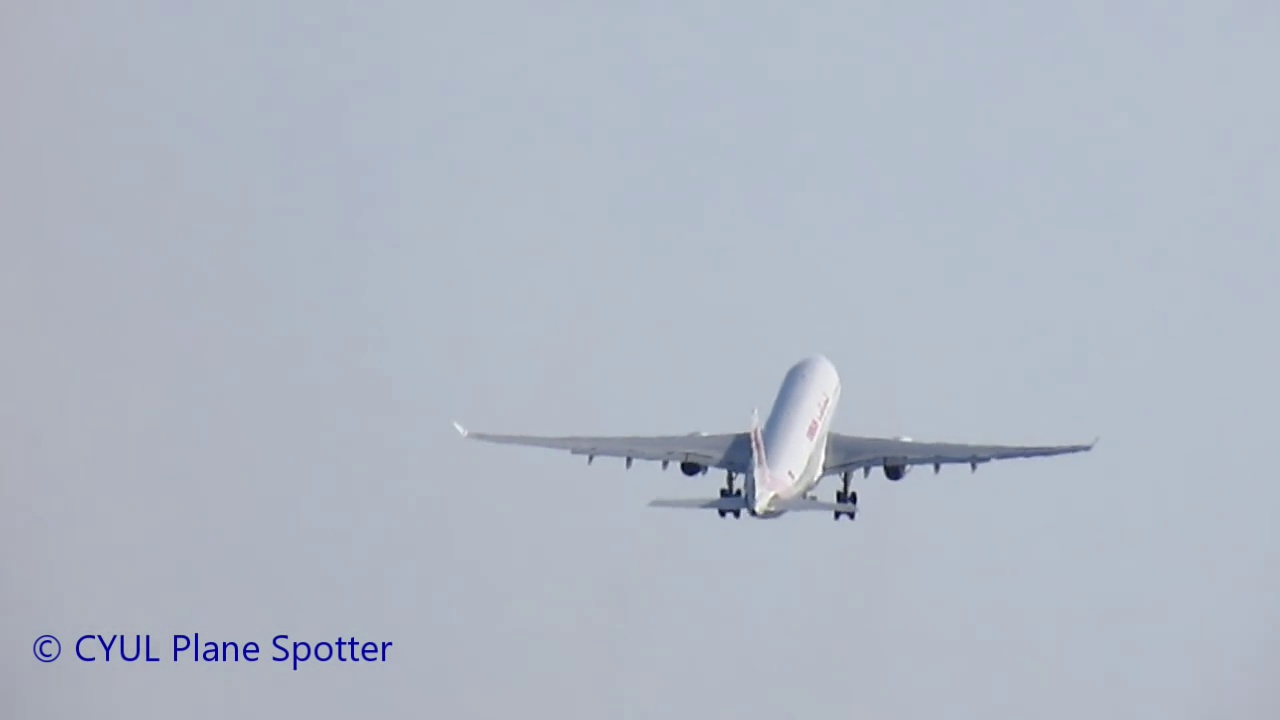Airplane: (447, 350, 1102, 520)
